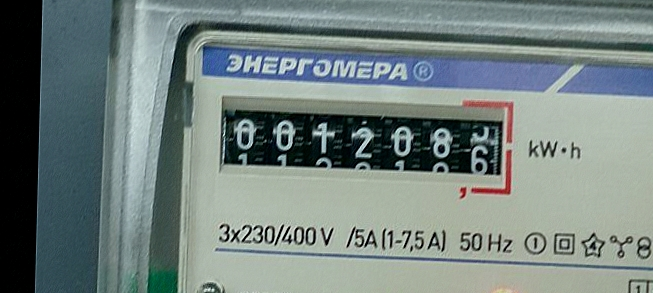0: (388, 121, 414, 157), (271, 114, 295, 151), (233, 113, 254, 150)
1: (312, 117, 330, 154)
2: (349, 123, 376, 159)
6: (466, 139, 490, 175)
8: (427, 123, 451, 160)
screen: (207, 82, 522, 208)
